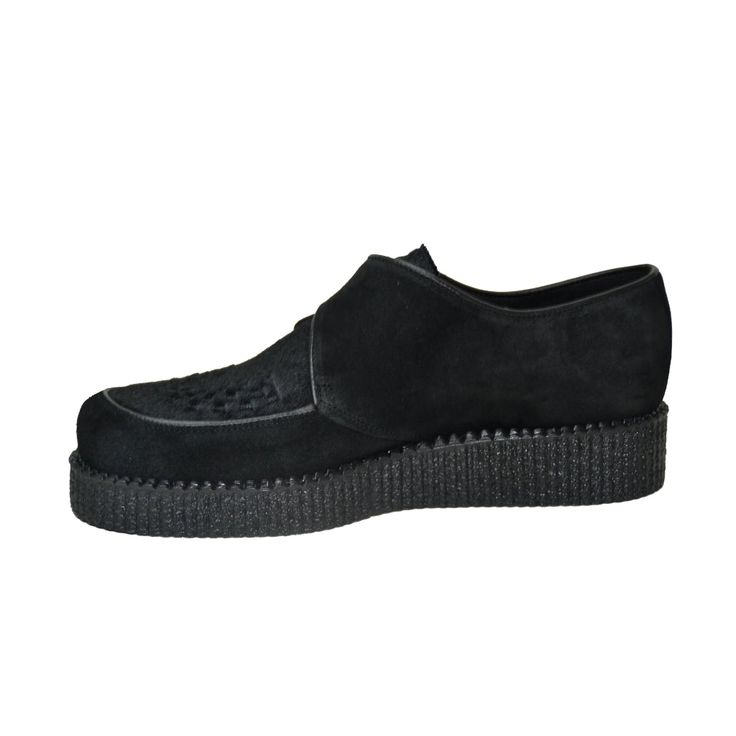gamuza: (76, 245, 672, 483)
